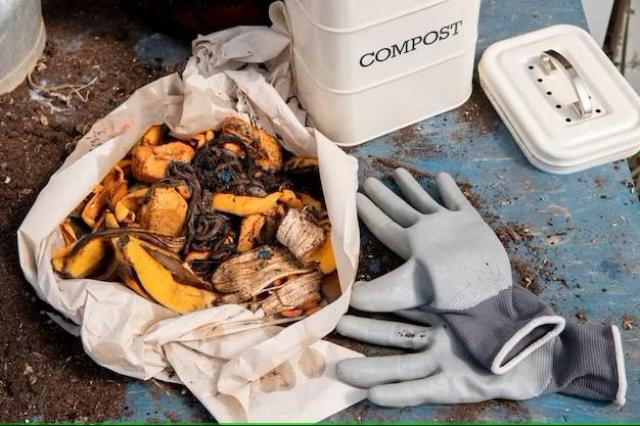Garbage: (14, 0, 640, 426)
contaminated_waste: (325, 160, 628, 414), (284, 2, 485, 149), (471, 16, 640, 177), (0, 0, 51, 96)
